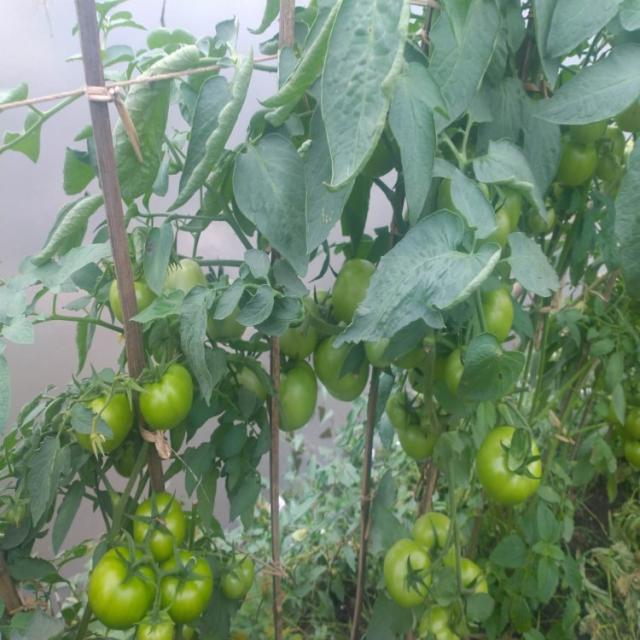tomato: (554, 123, 640, 195), (475, 177, 551, 246), (477, 425, 540, 502), (91, 549, 152, 628), (73, 385, 134, 457), (137, 360, 197, 432), (160, 550, 218, 619), (382, 393, 442, 454), (316, 333, 365, 403), (128, 492, 187, 546), (274, 359, 317, 431), (330, 256, 376, 322), (388, 542, 435, 606), (445, 548, 494, 605), (112, 279, 154, 336), (475, 289, 518, 336), (222, 549, 256, 600), (285, 294, 315, 351), (412, 510, 464, 541), (416, 608, 464, 640), (164, 259, 206, 291), (623, 404, 640, 476), (372, 342, 400, 370), (451, 352, 471, 389), (134, 628, 184, 640), (405, 348, 427, 372)
